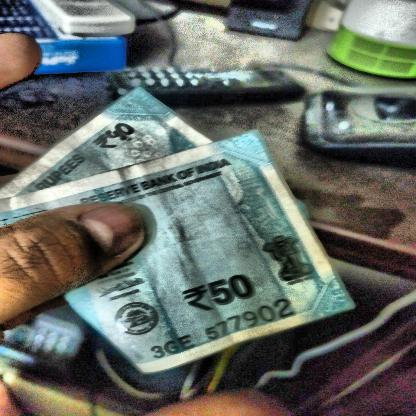Rs50: (169, 268, 264, 321)
